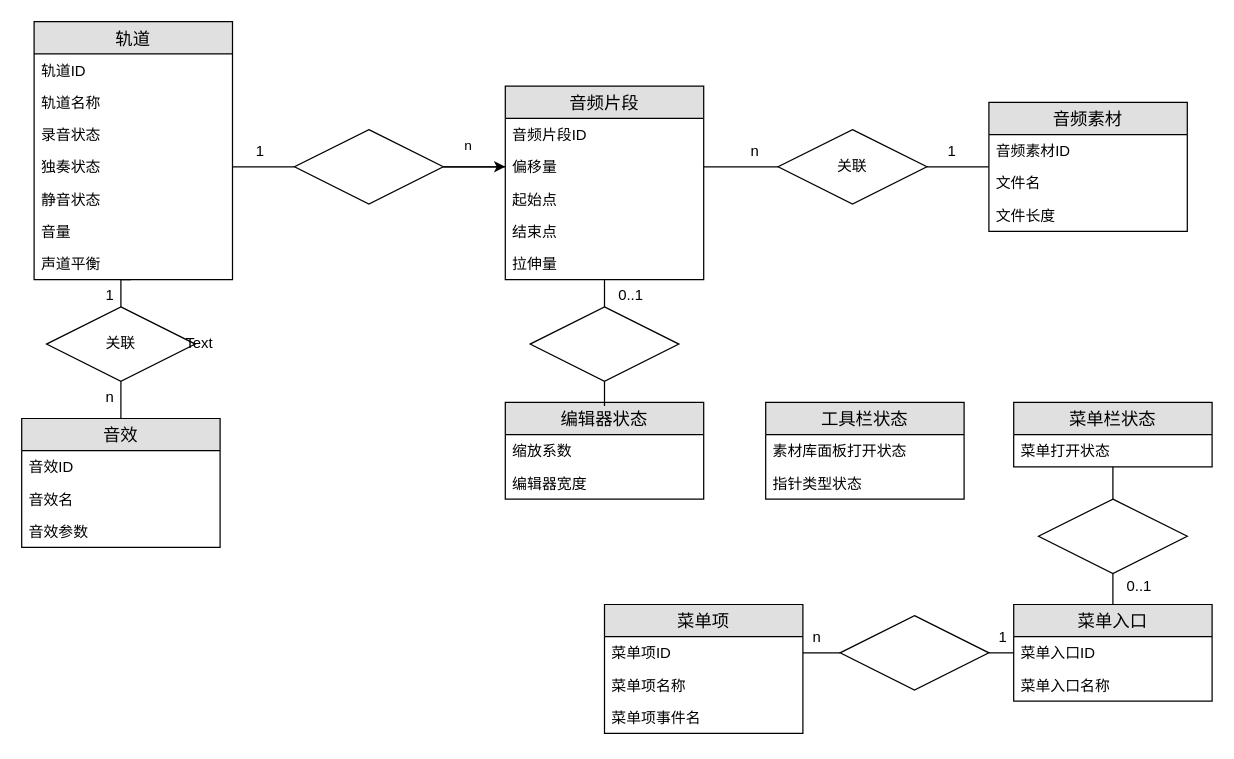
The diagram is 1234 pixels wide and 759 high, and some of its shapes have lost their labels. The shapes that lost their labels are listed below. From the top down, each one's centre as x and y in pixels, then its label:
At point 368,166: "拥有".
At point 604,343: "选中".
At point 1112,536: "展示".
At point 914,652: "包含".
